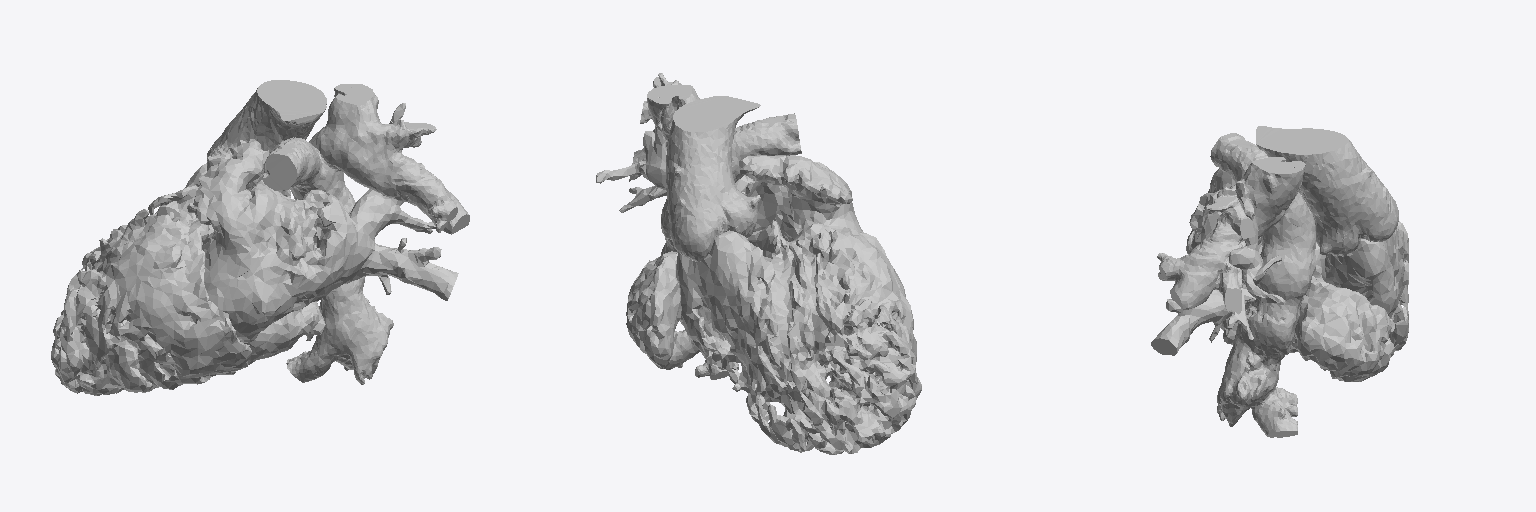
File: 2018017-01Aortalowres.obj
3 renders of one model, left to right at view 1: azimuth 30°, elevation 25°; view 2: azimuth 150°, elevation 25°; view 3: azimuth 270°, elevation 25°, orthographic.
Visible parts, largest first — view 1: [number redacted]_Atria_Ventricle, [number redacted]_Vena_Cava, [number redacted]_Atria_Aorta; view 2: [number redacted]_Atria_Ventricle, [number redacted]_Atria_Aorta, [number redacted]_Vena_Cava; view 3: [number redacted]_Vena_Cava, [number redacted]_Atria_Ventricle, [number redacted]_Atria_Aorta.
Boxes of the visible parts, x1=… form: [number redacted]_Atria_Ventricle: x1=51, y1=103, x2=458, y2=395; [number redacted]_Vena_Cava: x1=262, y1=84, x2=469, y2=384; [number redacted]_Atria_Aorta: x1=207, y1=80, x2=326, y2=197; [number redacted]_Atria_Ventricle: x1=596, y1=73, x2=921, y2=454; [number redacted]_Atria_Aorta: x1=666, y1=96, x2=760, y2=261; [number redacted]_Vena_Cava: x1=629, y1=77, x2=801, y2=379; [number redacted]_Vena_Cava: x1=1157, y1=133, x2=1315, y2=437; [number redacted]_Atria_Ventricle: x1=1151, y1=168, x2=1408, y2=381; [number redacted]_Atria_Aorta: x1=1256, y1=126, x2=1398, y2=256.
Size of the model in its own units: 174 by 134 by 113.